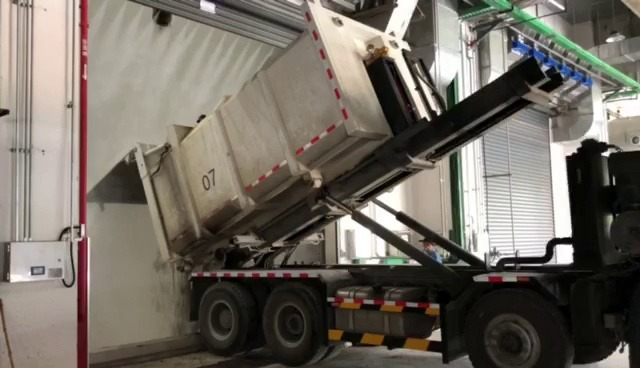dust: (89, 206, 174, 345), (92, 72, 194, 150)
truck: (134, 0, 640, 368)
